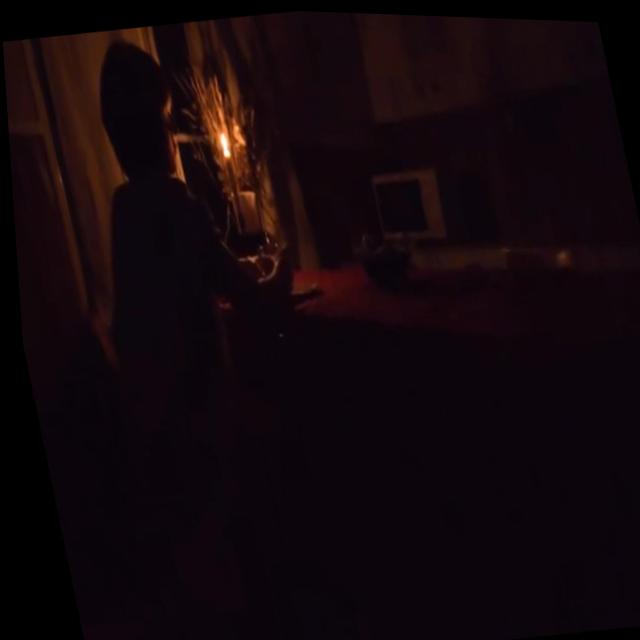fire: (213, 124, 231, 157)
